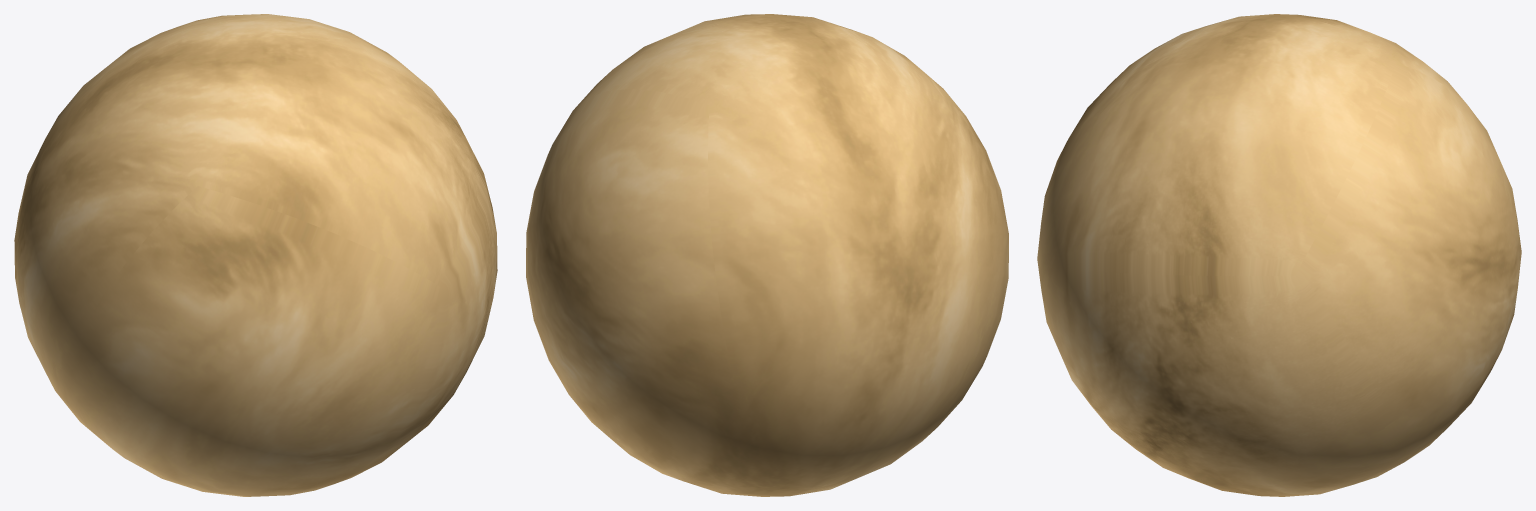
File: venus.obj
3 views of the same model, side by side, from view 1: azimuth 30°, elevation 25°; view 2: azimuth 150°, elevation 25°; view 3: azimuth 270°, elevation 25° (orthographic).
Visible parts, largest first — view 1: Mercury; view 2: Mercury; view 3: Mercury.
Boxes of the visible parts, left/top/right/bottom form: Mercury: left=14, top=14, right=497, bottom=496; Mercury: left=526, top=14, right=1008, bottom=496; Mercury: left=1037, top=14, right=1521, bottom=496.
Bounding box in the file's own units: 0.4749 × 0.4743 × 0.4759.
1 material, 1 textured.
